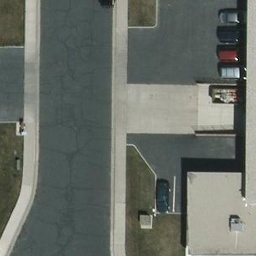car: (215, 41, 247, 63), (216, 64, 247, 82), (156, 178, 171, 214), (217, 25, 246, 43), (217, 8, 246, 25)
